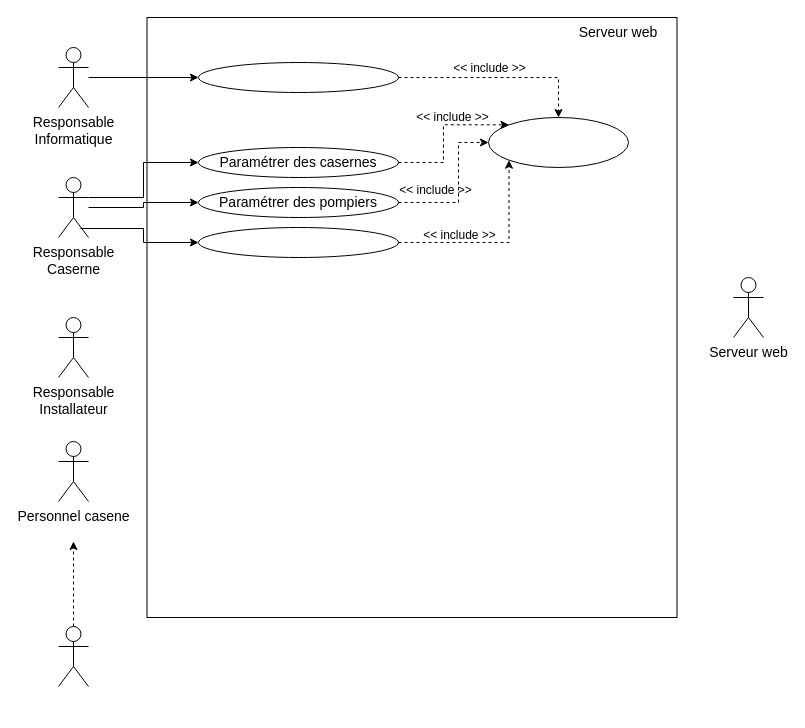
Image size: 805x728. Some labels were removed from this diagram. The centre of each missing label's shape, as x and y in pixels:
"Créer des utilisateurs" goes at pixel 298 77.
"Paramétrer des véhicules" goes at pixel 298 242.
"Pompier" goes at pixel 73 656.
"S'authentifier" goes at pixel 558 142.
